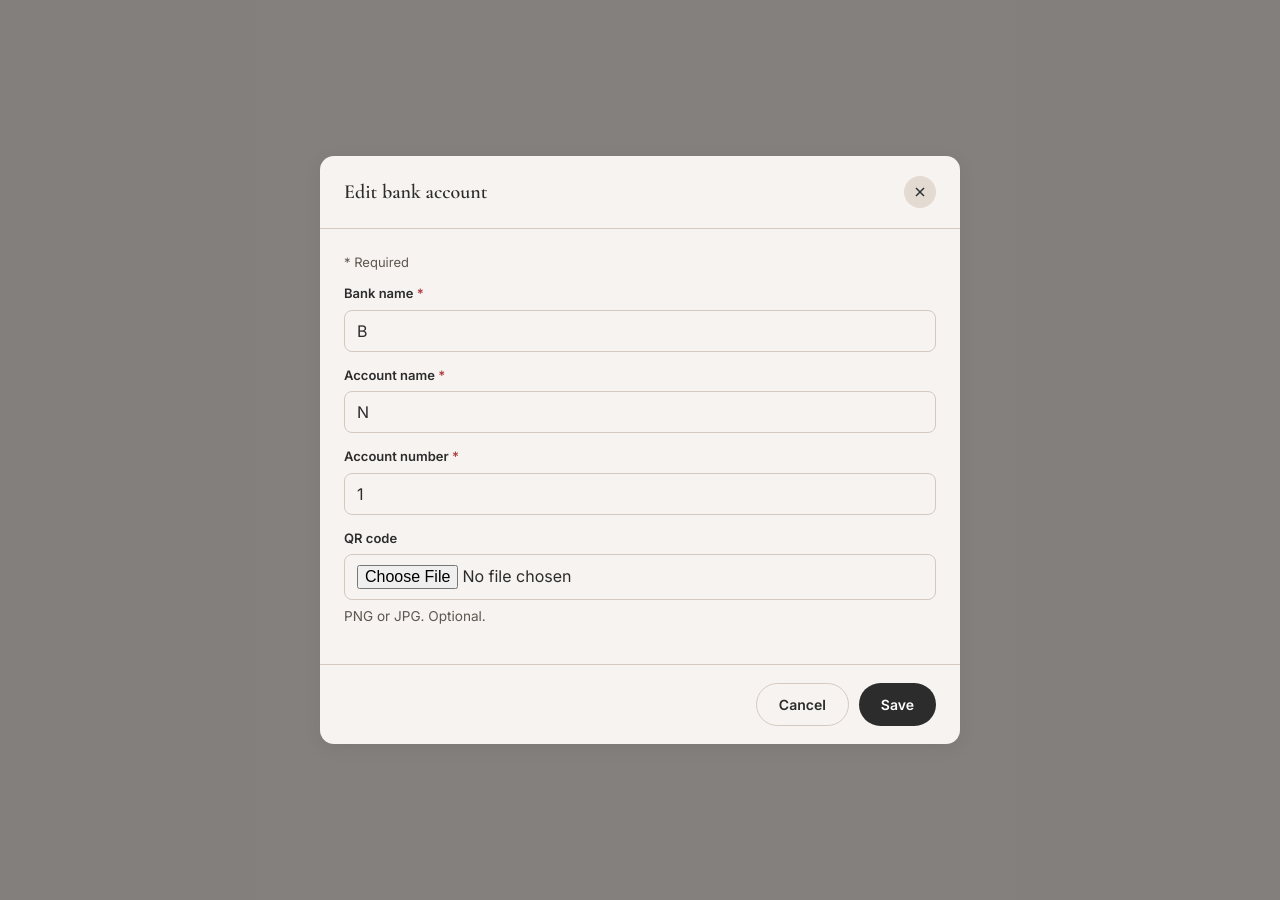
Test case: BankAccountModal › shows a disabled Saving state and stays open on a general server error
The image size is (1280, 900).
Expected: the dialog "Edit bank account" is shown, [320, 156, 960, 744]
Click the button "Save": x=897, y=705 [859, 683, 936, 726]
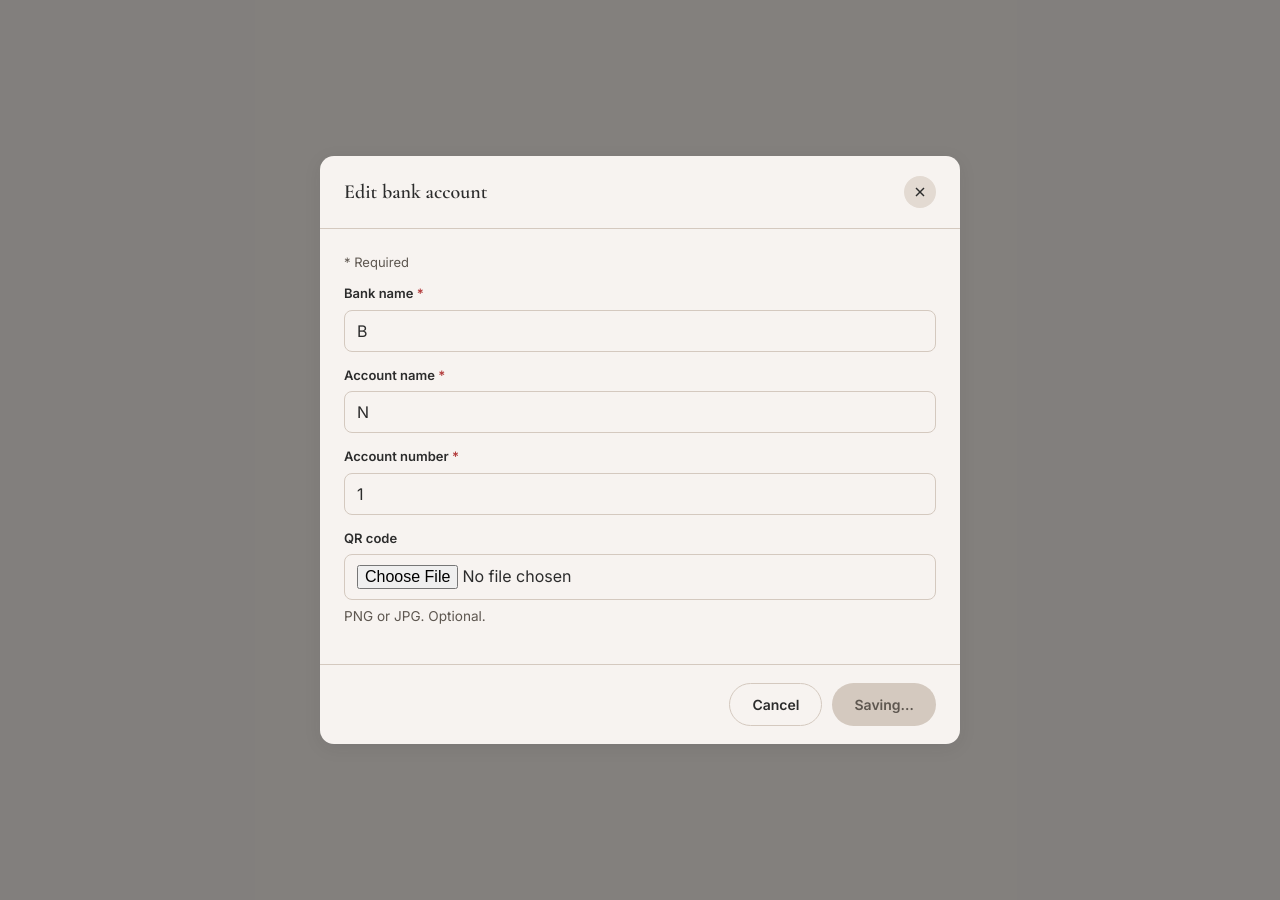
Expected: the button "Saving…" is disabled, [832, 683, 936, 726]
Click the button "Cancel": x=776, y=705 [730, 683, 822, 726]
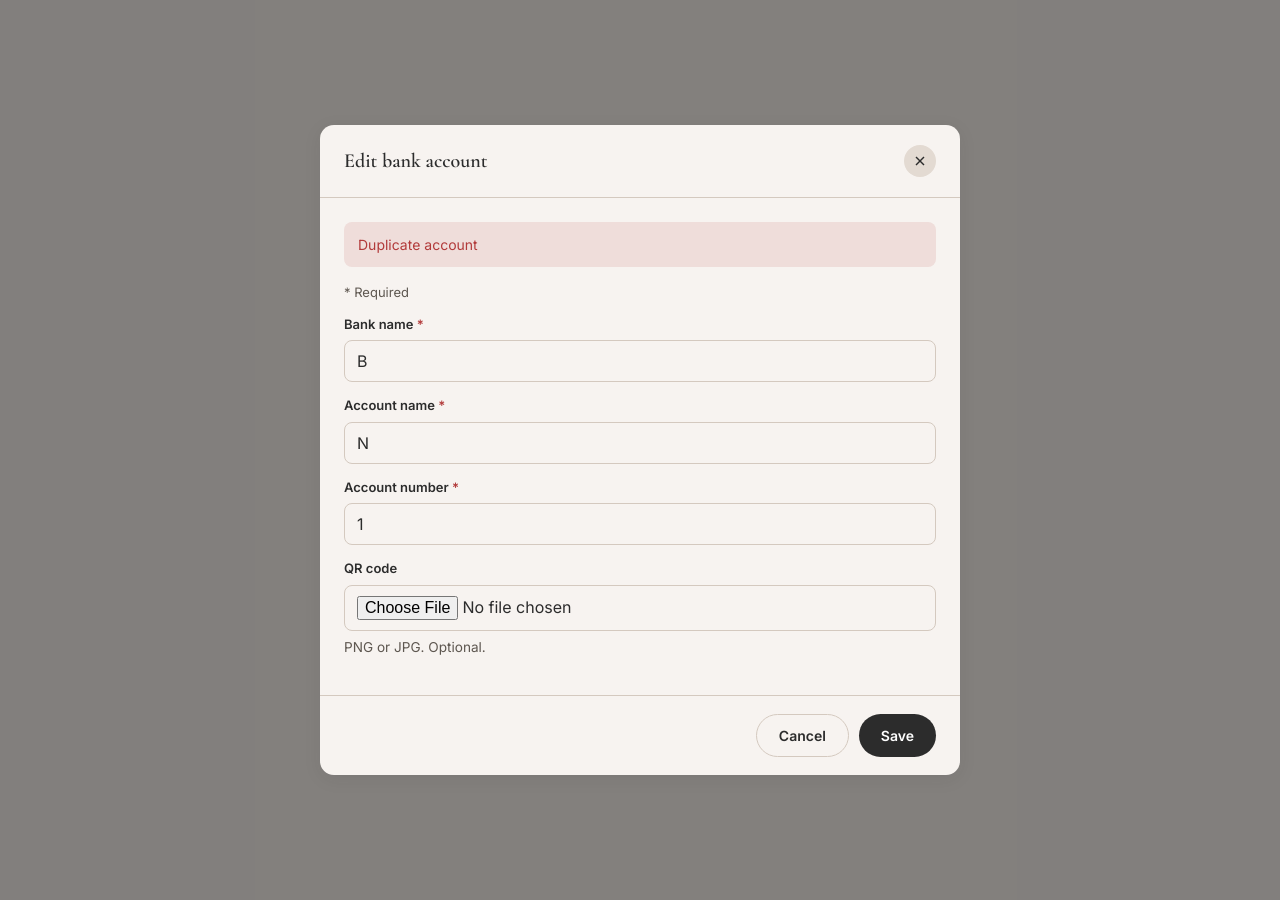
Expected: the message reads "Duplicate account", [358, 236, 478, 253]
Expected: the button "Save" is enabled, [859, 714, 936, 757]
